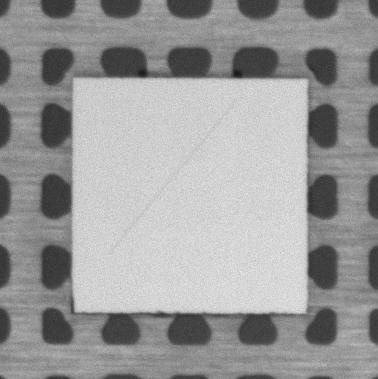DIE_CRACK: (109, 101, 235, 254)
